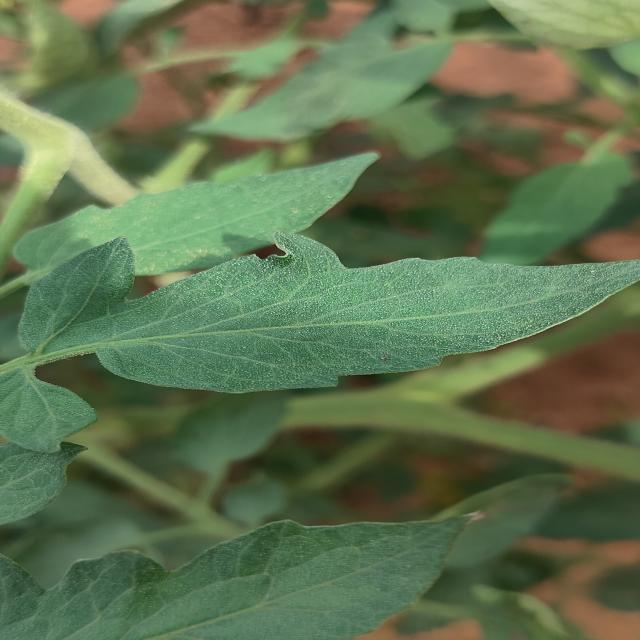tomato_healthy: (22, 233, 640, 390)
